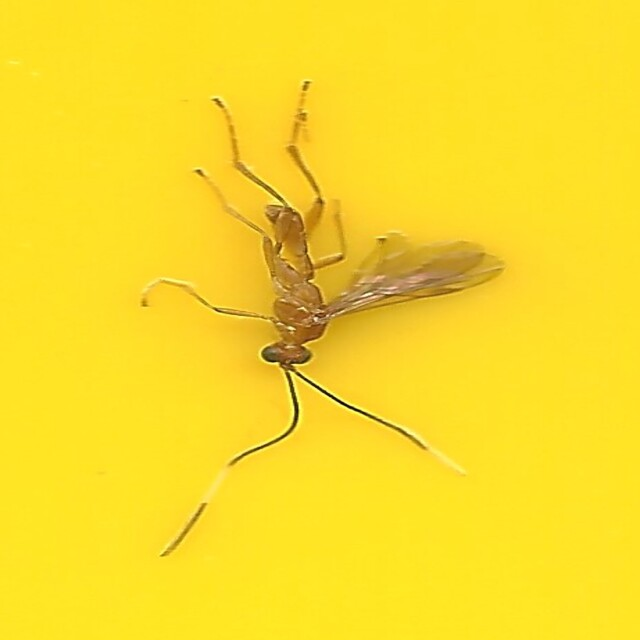Hymenoptera: (139, 83, 501, 557)
